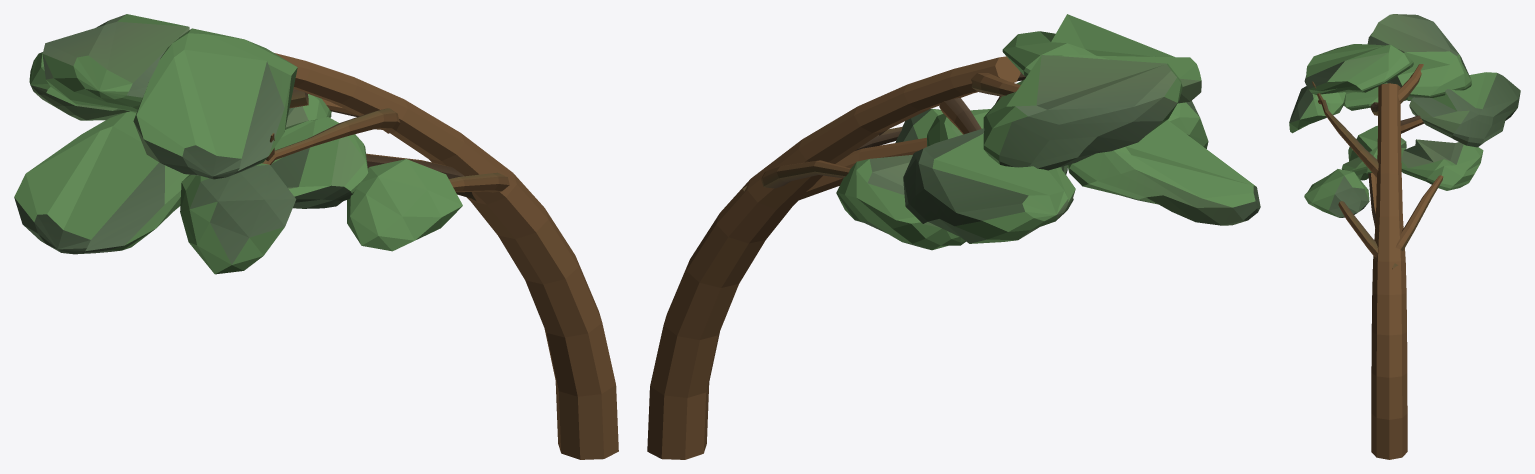
File: Tree60Bend 1.fbx
3 views of the same model, side by side, from view 1: azimuth 30°, elevation 25°; view 2: azimuth 150°, elevation 25°; view 3: azimuth 270°, elevation 25° (orthographic). The views are drawn at different scales.
Parts seen in each view (by area): view 1: TreeBend60; view 2: TreeBend60; view 3: TreeBend60.
Part boxes in pixels (x1,y1,x2,y2): TreeBend60: (14, 14, 618, 459); TreeBend60: (647, 14, 1260, 459); TreeBend60: (1289, 14, 1520, 459).
Bounding box in the file's own units: 742 × 608 × 430.
